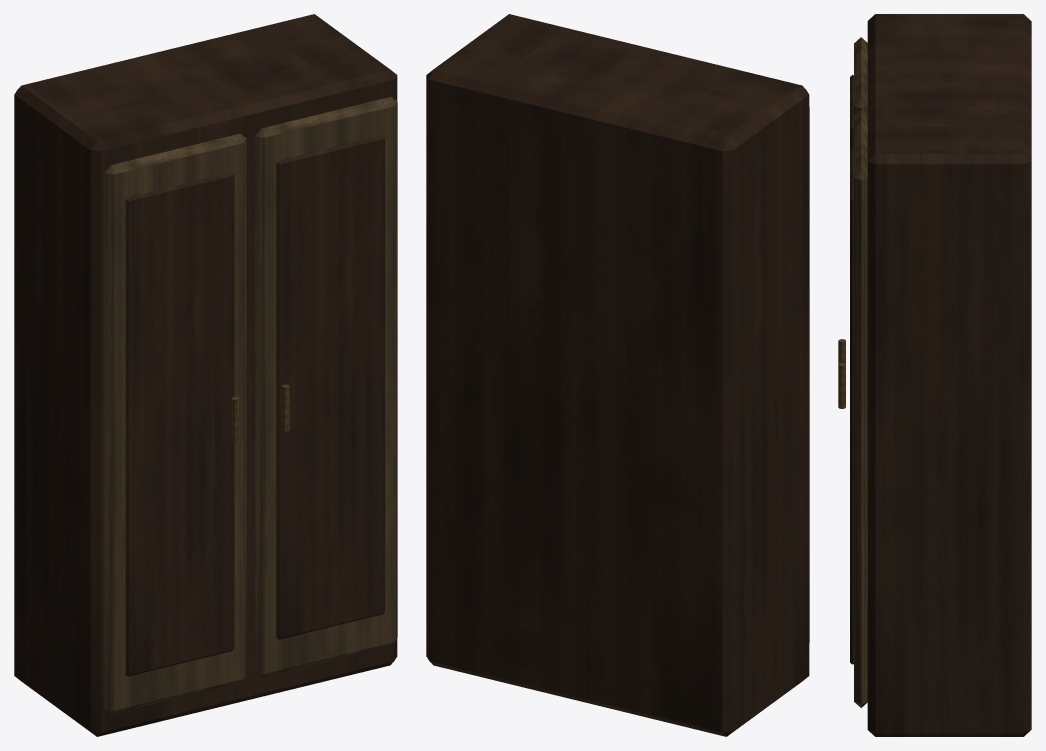
The model's file is level_lived_linen_press_worn.glb.
3 renders of one model, left to right at view 1: azimuth 30°, elevation 25°; view 2: azimuth 150°, elevation 25°; view 3: azimuth 270°, elevation 25°, orthographic. The views are drawn at different scales.
Visible parts, largest first — view 1: level_lived_linen_press_worn; view 2: level_lived_linen_press_worn; view 3: level_lived_linen_press_worn.
Boxes of the visible parts, x1=… form: level_lived_linen_press_worn: x1=14, y1=14, x2=397, y2=736; level_lived_linen_press_worn: x1=426, y1=14, x2=809, y2=736; level_lived_linen_press_worn: x1=838, y1=14, x2=1031, y2=736.
Bounding box in the file's own units: 1.1 × 2.04 × 0.612.
3 materials, 3 textured.
